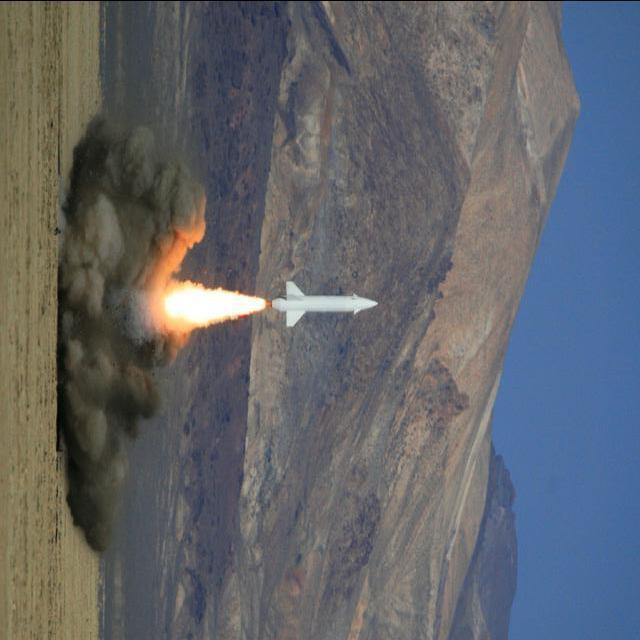missile: (268, 279, 380, 326)
